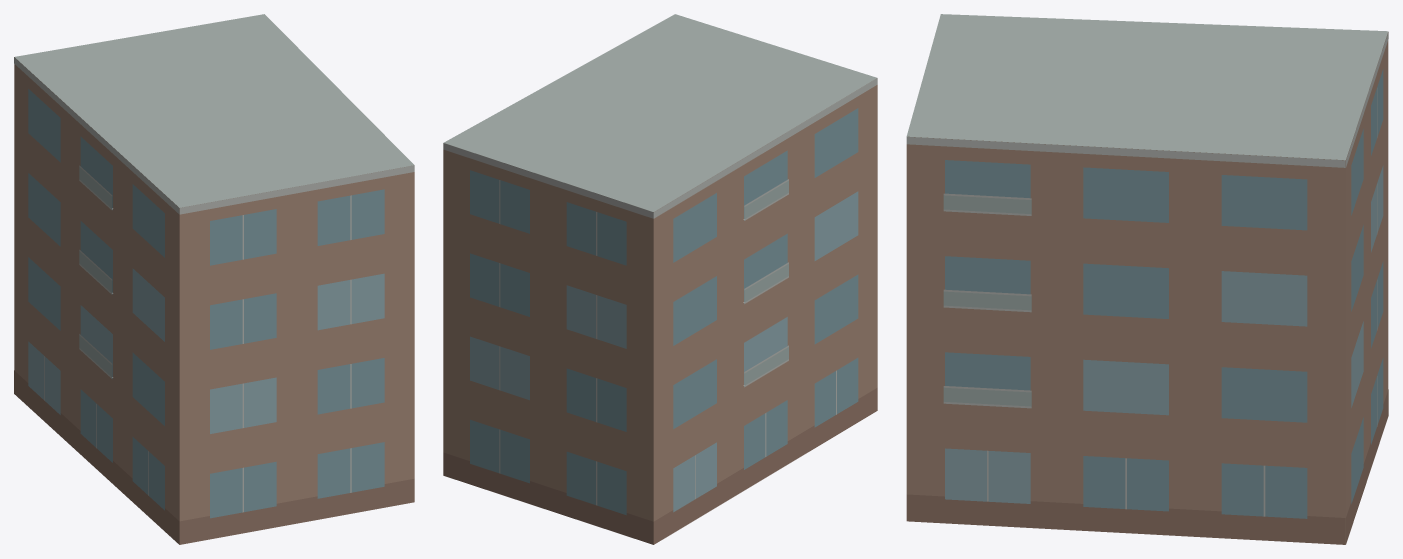
File: survey-upis-32847849.glb
3 views of the same model, side by side, from view 1: azimuth 30°, elevation 25°; view 2: azimuth 150°, elevation 25°; view 3: azimuth 270°, elevation 25° (orthographic). The views are drawn at different scales.
Visible parts, largest first — view 1: survey-upis-32847849.tmp; view 2: survey-upis-32847849.tmp; view 3: survey-upis-32847849.tmp.
Boxes of the visible parts, x1=… form: survey-upis-32847849.tmp: x1=14, y1=14, x2=414, y2=544; survey-upis-32847849.tmp: x1=443, y1=14, x2=877, y2=544; survey-upis-32847849.tmp: x1=906, y1=14, x2=1388, y2=544.
Size of the model in its own units: 9.96 by 12.2 by 13.86.
